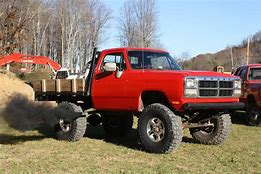smoke: (1, 93, 79, 131)
